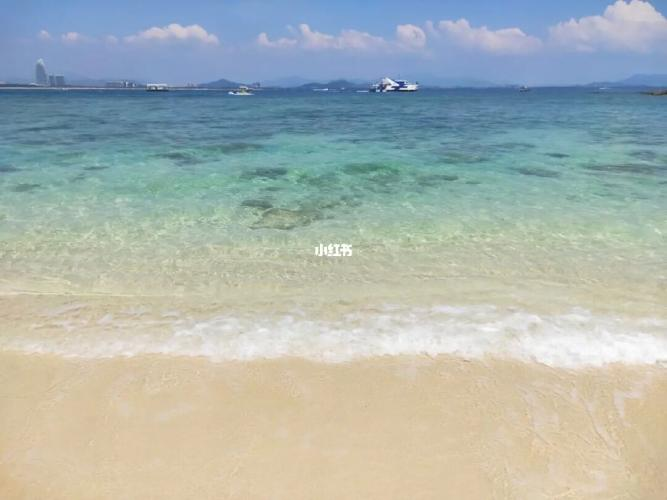sea_river: (5, 93, 666, 324)
sky_cloud: (3, 2, 666, 86)
